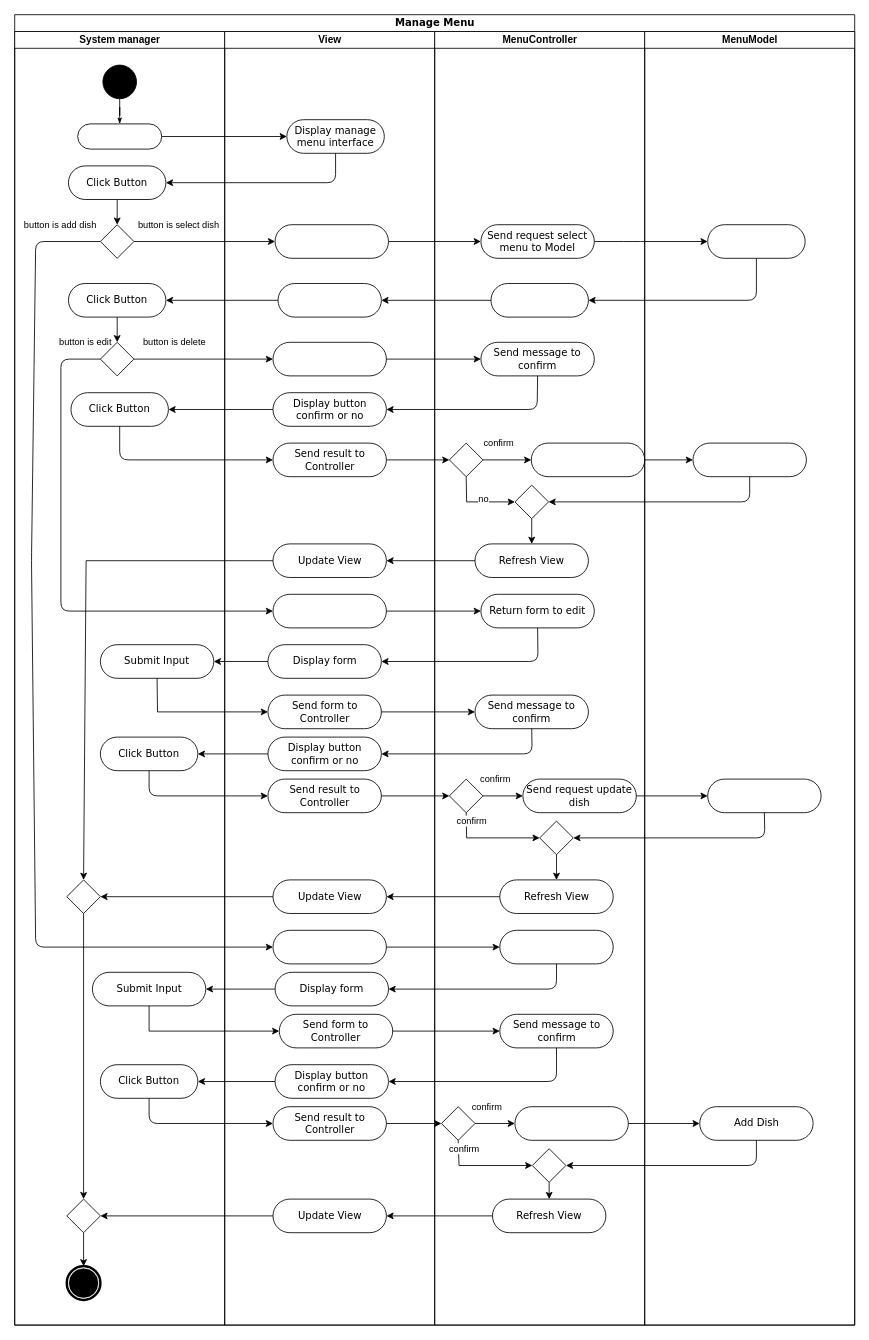
This 869x1340 diagram has some shape labels left out. The centre of each missing label's shape, as x and y in pixels:
"Change View to Account Detail View" belongs at point 329,300.
"Click manage account button" belongs at point 119,136.
"Delete Dish" belongs at point 749,459.
"Display Account Detail" belongs at point 539,300.
"Return Dish Data" belongs at point 756,241.
"Return form to add" belongs at point 556,946.
"Send request add dish" belongs at point 571,1123.
"Send request add dish to Controller" belongs at point 329,946.
"Send request delete dish" belongs at point 587,459.
"Send request delete dish to Controller" belongs at point 329,358.
"Send request edit dish to Controller" belongs at point 329,610.
"Send request select menu to Controller" belongs at point 331,241.
"Update Dish" belongs at point 764,795.
